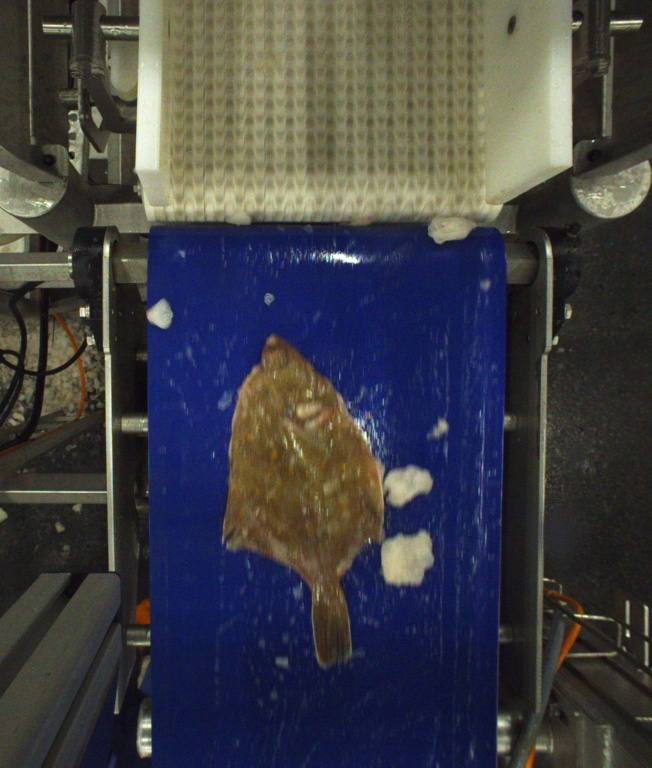PLE: (223, 340, 379, 659)
